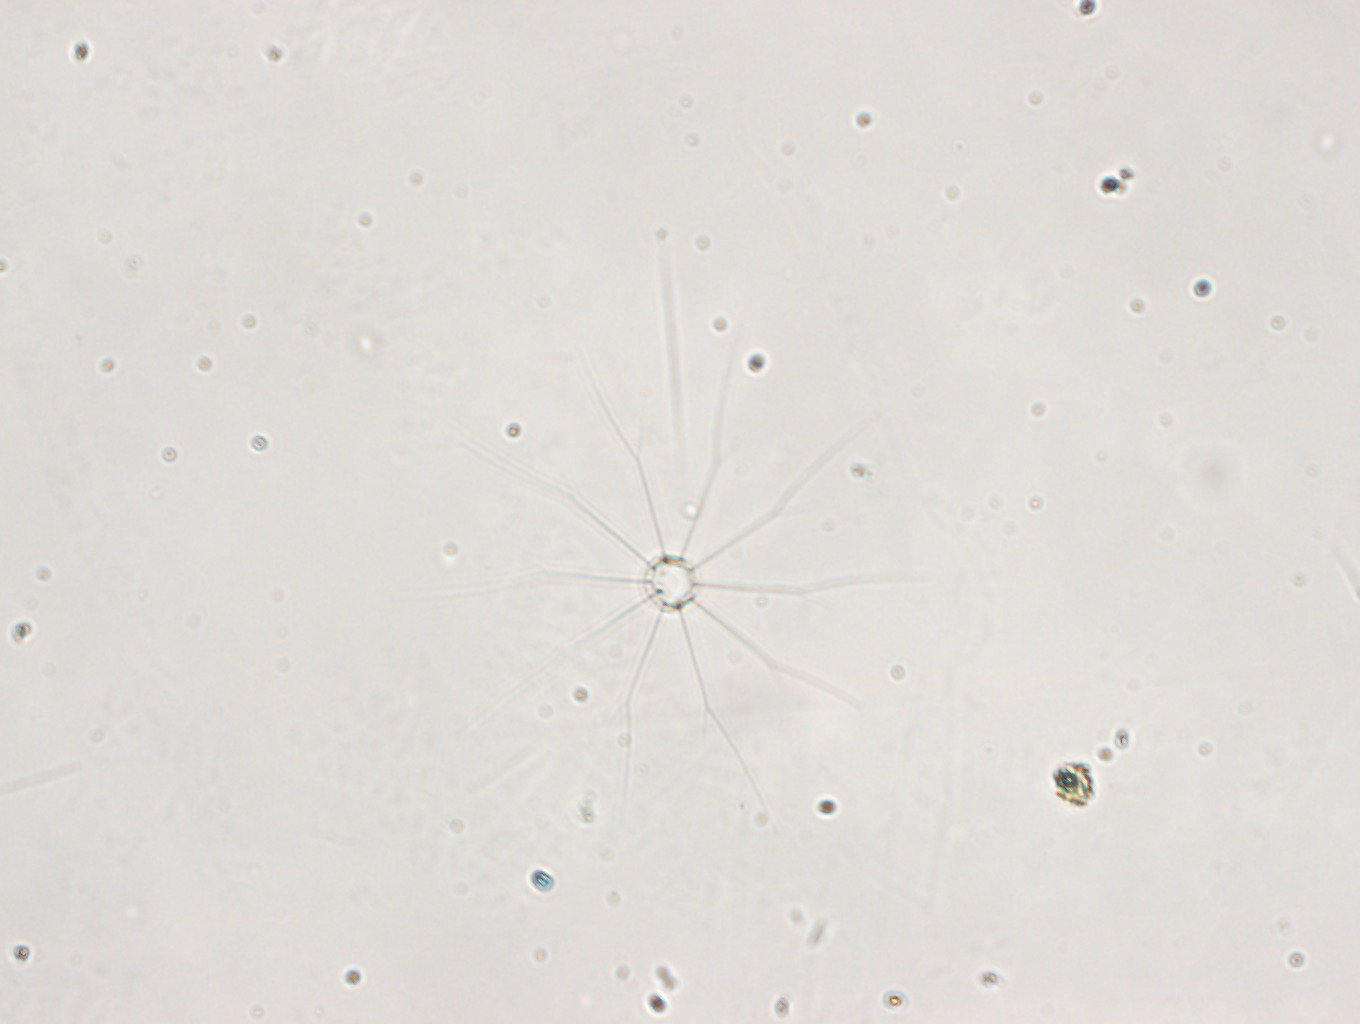bacteriastrum: (411, 321, 929, 828)
